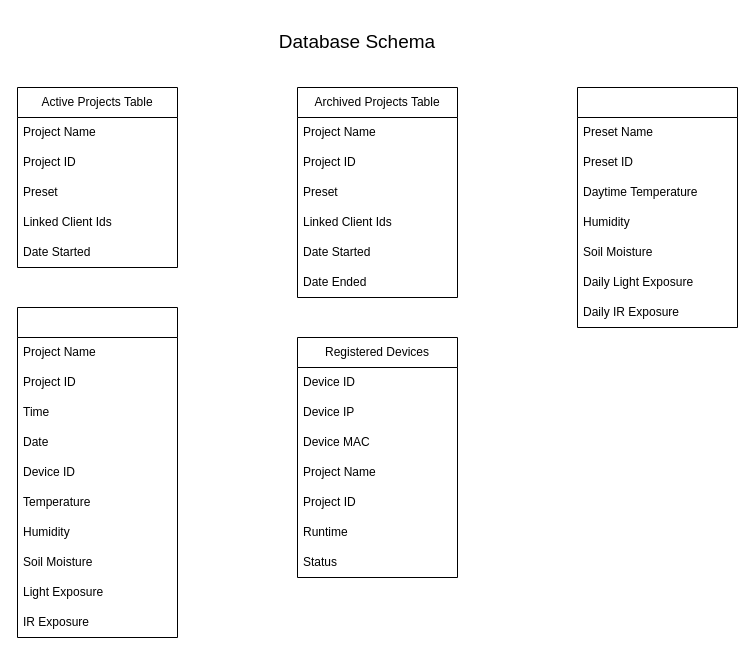
This 755x655 diagram has some shape labels left out. Here are the shapes that lost their labels. From the top down, the box of each, then its label:
(576, 86, 738, 328): Presets Table
(16, 306, 178, 638): Data Table
